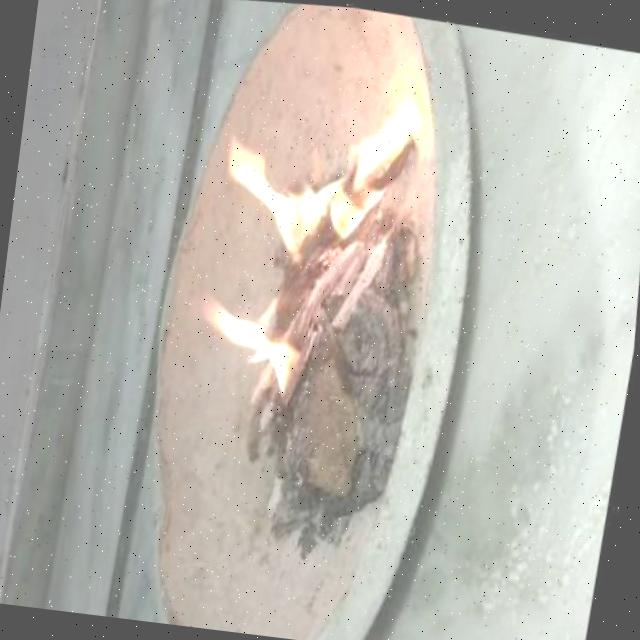fire: (317, 79, 435, 276), (202, 129, 353, 272), (184, 286, 311, 397)
